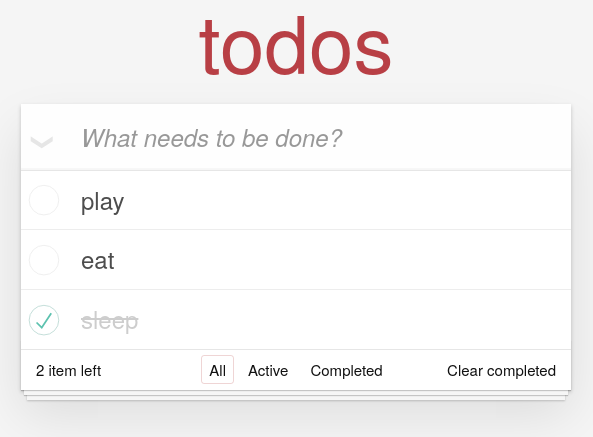
切换所有任务的完成状态 › 选中切换所有按钮，所有的任务应该变成已完成
What coordinates should you click on to do the following:
click the checkbox with test id "toggle-all"
I would click on:
 (38, 136)
Its box is [21,106,55,166].
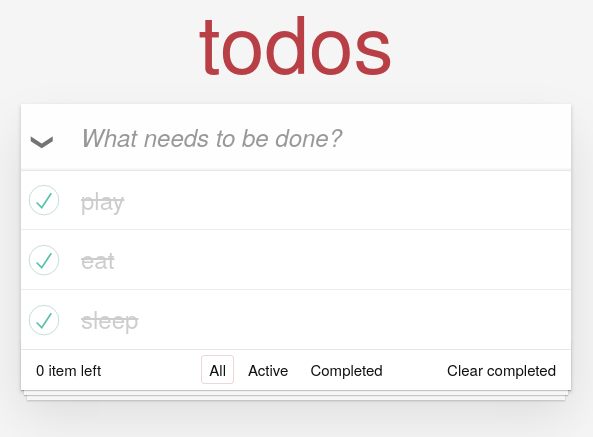
Expected: the checkbox with test id "todo-done" is checked, [21,171,571,229]
